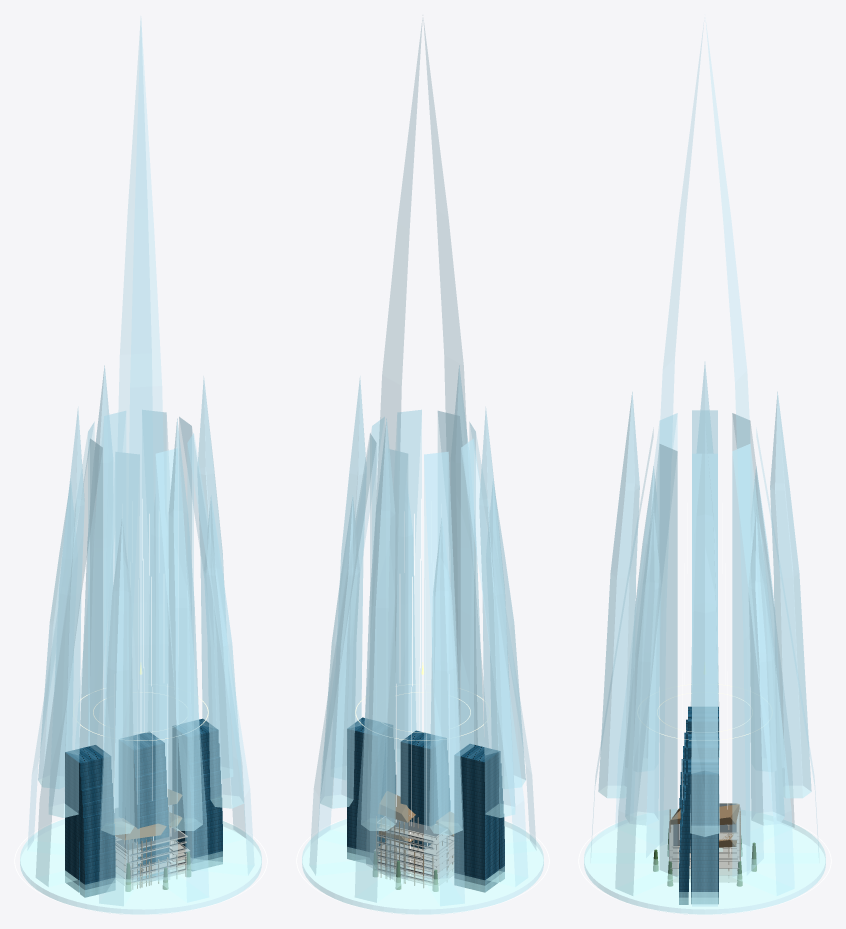
Rendered from Catalog-53.glb.
3 renders of one model, left to right at view 1: azimuth 30°, elevation 25°; view 2: azimuth 150°, elevation 25°; view 3: azimuth 270°, elevation 25°, orthographic.
Parts seen in each view (by area): view 1: Metropolis Crystal Ice, Metropolis Glass Cerulean, Metropolis Pale Stone (×2), Metropolis White, Metropolis Copper, Metropolis Graphite; view 2: Metropolis Crystal Ice, Metropolis Glass Cerulean, Metropolis Pale Stone (×2), Metropolis Copper (×2), Metropolis White, Metropolis Graphite; view 3: Metropolis Crystal Ice, Metropolis Glass Cerulean, Metropolis Pale Stone, Metropolis White, Metropolis Green.
Boxes of the visible parts, x1,y1,x2,y2 form: Metropolis Crystal Ice: (20, 18, 261, 914); Metropolis Glass Cerulean: (65, 718, 222, 897); Metropolis Pale Stone (×2): (115, 827, 189, 885); Metropolis White: (114, 499, 171, 861); Metropolis Copper: (114, 813, 181, 888); Metropolis Graphite: (114, 808, 186, 882); Metropolis Crystal Ice: (302, 20, 543, 914); Metropolis Glass Cerulean: (347, 717, 504, 892); Metropolis Pale Stone (×2): (374, 816, 454, 885); Metropolis Copper (×2): (376, 791, 454, 882); Metropolis White: (396, 498, 449, 875); Metropolis Graphite: (377, 817, 452, 882); Metropolis Crystal Ice: (584, 25, 825, 914); Metropolis Glass Cerulean: (679, 706, 718, 904); Metropolis Pale Stone: (670, 825, 739, 881); Metropolis White: (679, 503, 730, 853); Metropolis Green: (653, 829, 756, 886).
Bounding box in the file's own units: 335 × 1251 × 335.
16 materials, 1 textured.
